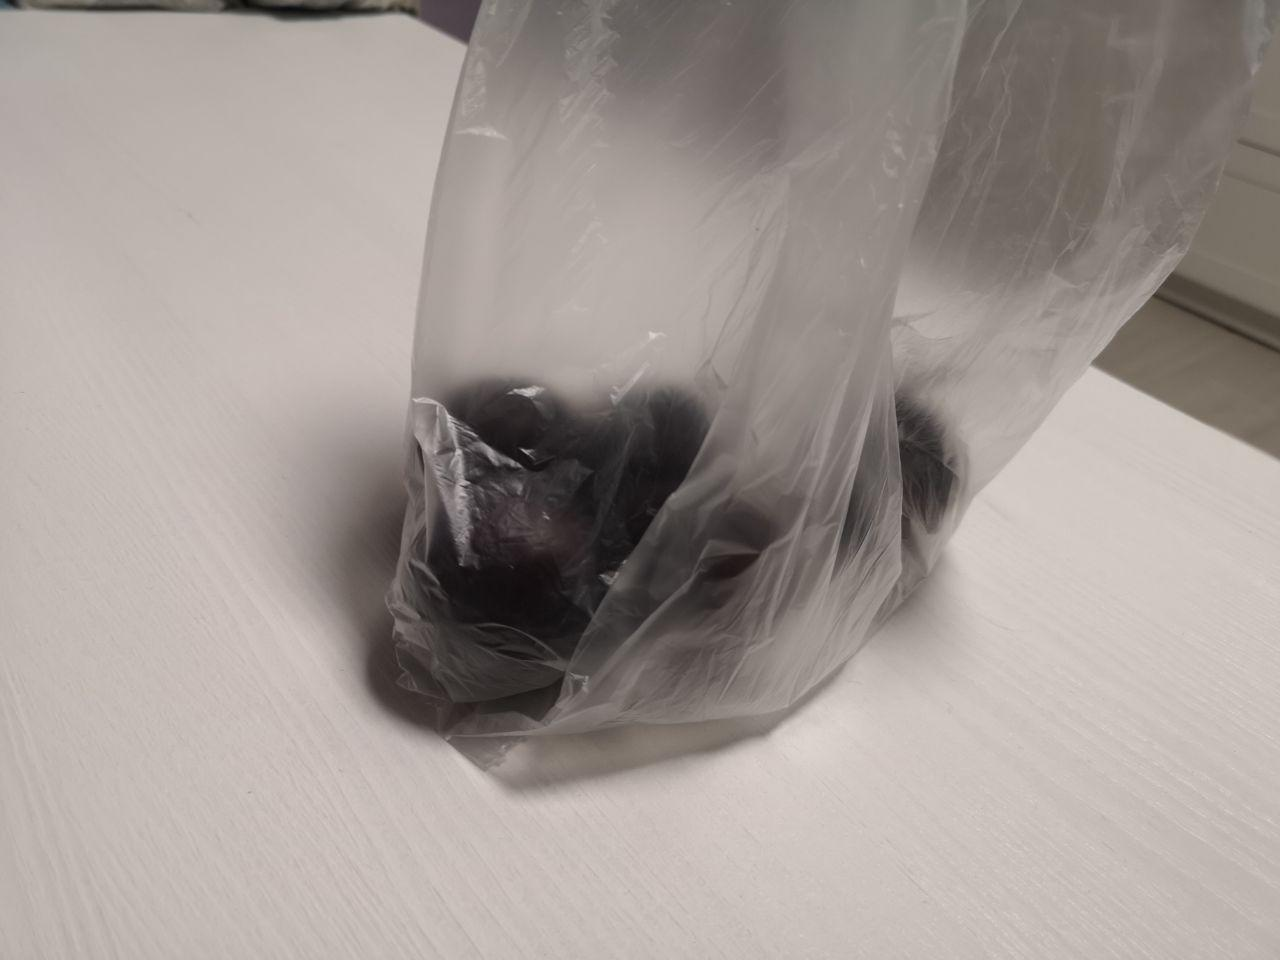plum: (324, 346, 1032, 834)
